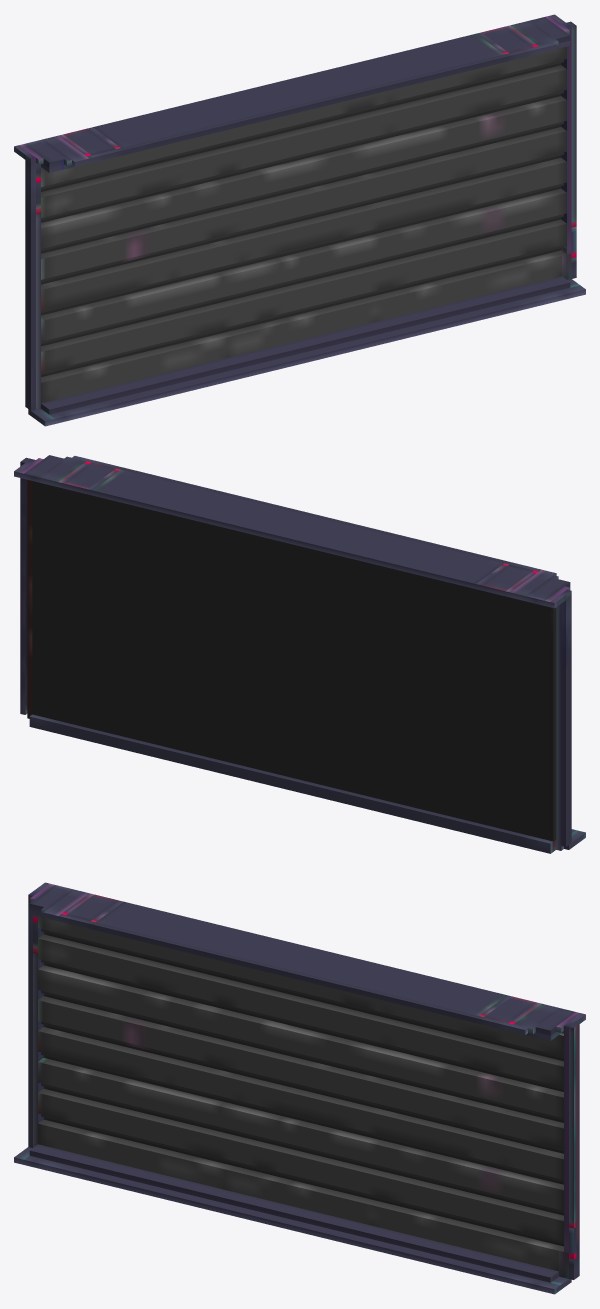
The model's file is Entrance_B_00.fbx.
3 renders of one model, top to bottom at view 1: azimuth 30°, elevation 25°; view 2: azimuth 150°, elevation 25°; view 3: azimuth 330°, elevation 25°, orthographic.
Parts seen in each view (by area): view 1: Entrance_B_00; view 2: Entrance_B_00; view 3: Entrance_B_00.
Boxes of the visible parts, bbox=[...] form: Entrance_B_00: bbox=[14, 14, 585, 426]; Entrance_B_00: bbox=[14, 455, 585, 853]; Entrance_B_00: bbox=[14, 882, 585, 1294].
Size of the model in its own units: 555 by 250 by 55.
